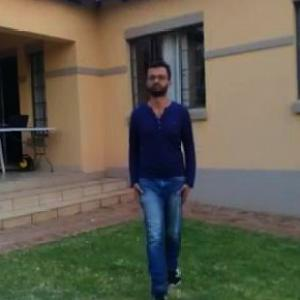follow: (125, 54, 196, 266)
